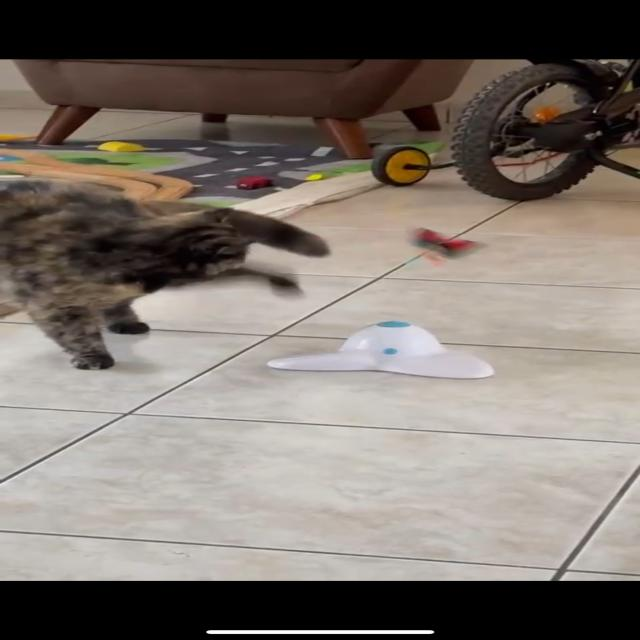authorized: (1, 178, 330, 370)
